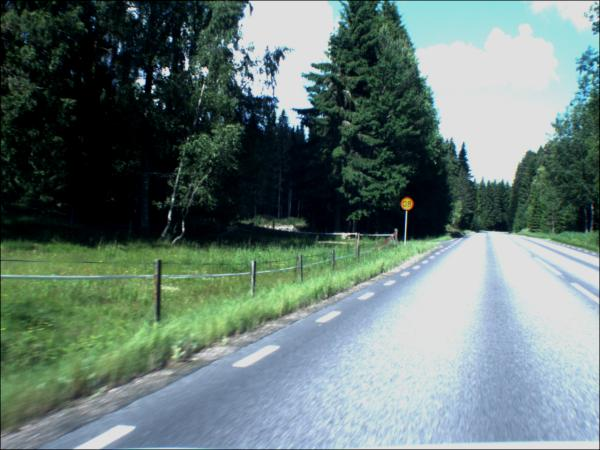80_SIGN: (400, 198, 415, 213)
